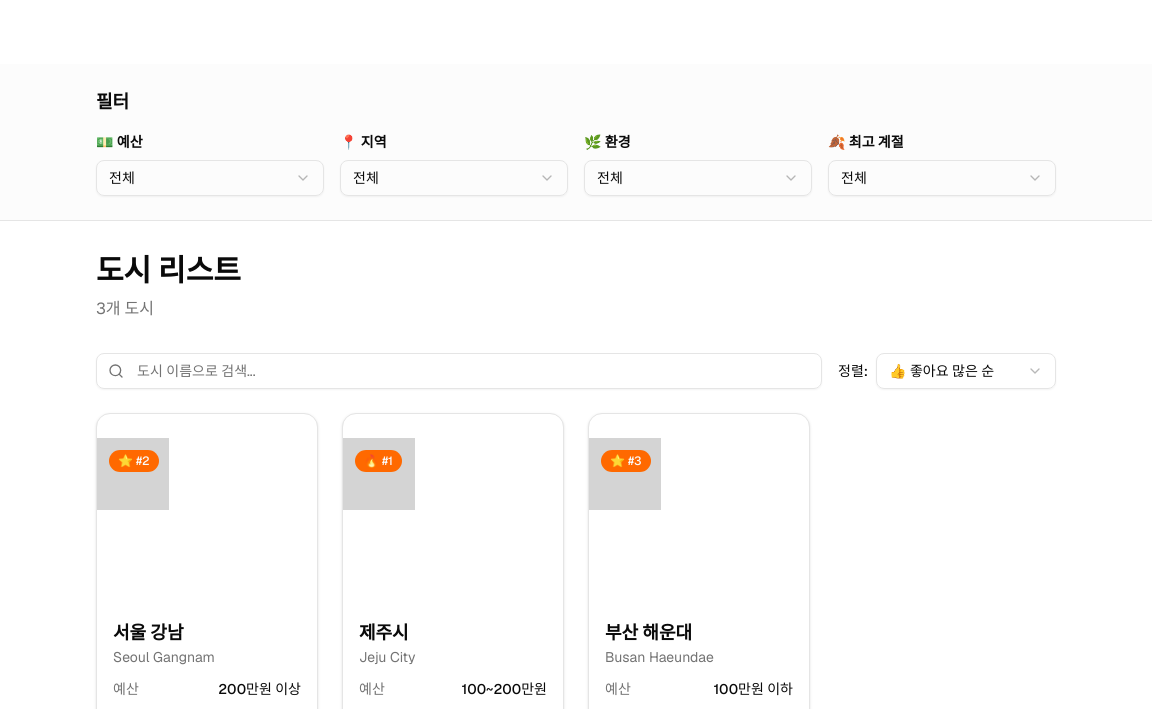
Test: PopularCities › 검색 › "jeju" 영문 검색 시 제주시만 표시된다
In the field: x=459, y=371 left=96, top=353, right=822, bottom=389, type "jeju"
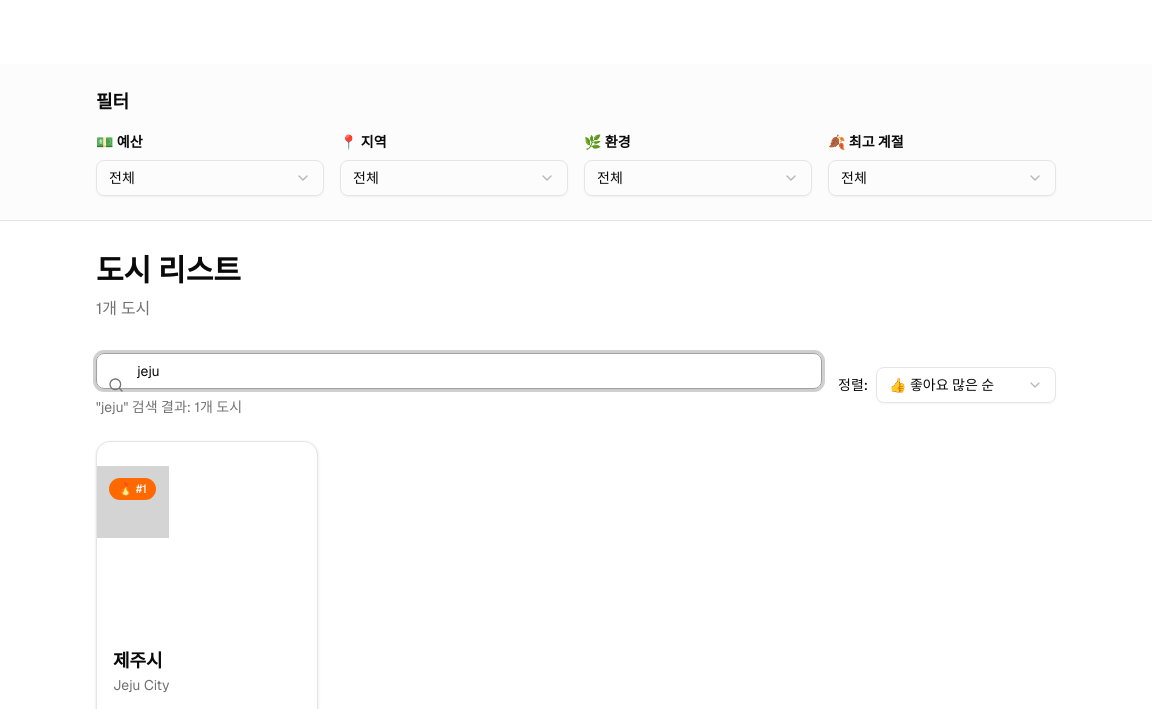
Expected: the heading "제주시" is shown, left=113, top=649, right=163, bottom=672
Result: the link "서울 강남" is gone
